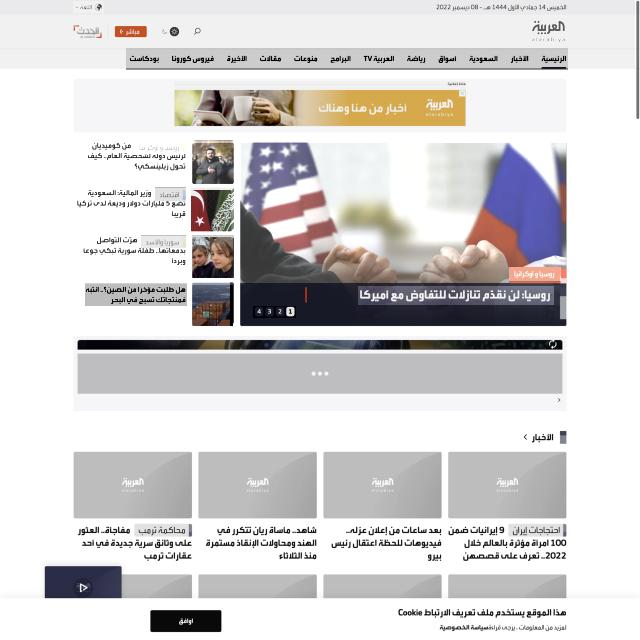CheckBox: (114, 25, 148, 38), (158, 26, 180, 37)
ImageView: (174, 81, 466, 127)
Input field: (85, 284, 187, 306)
QR code: (74, 138, 236, 332)
RadioButton: (509, 268, 561, 284), (136, 142, 186, 154), (141, 236, 186, 248), (155, 188, 186, 201)
alert: (73, 1, 104, 13)
bag: (0, 0, 635, 68)
copy: (240, 142, 566, 283), (192, 236, 235, 278), (192, 189, 234, 232), (192, 142, 234, 184), (192, 284, 233, 326)
date picker: (528, 18, 568, 44)
decoration: (126, 48, 568, 70)
dropdown: (253, 306, 296, 318)
image: (358, 286, 554, 305)
